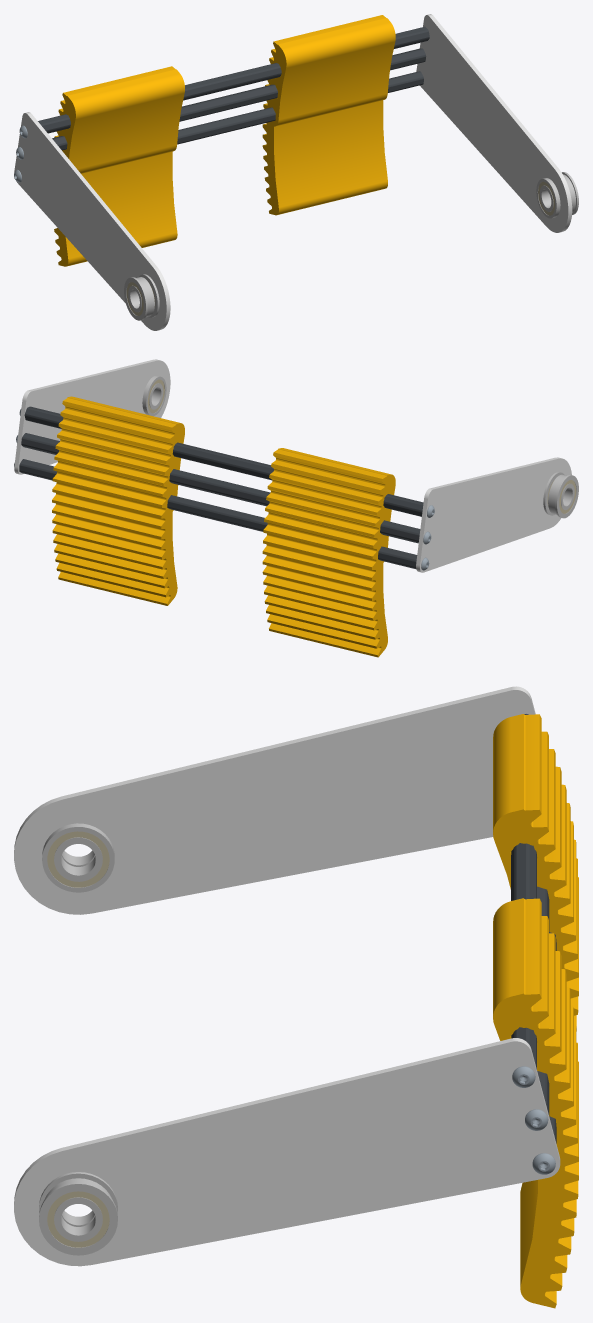
The picture shows the model from 3 angles, top to bottom: view 1: azimuth 30°, elevation 25°; view 2: azimuth 150°, elevation 25°; view 3: azimuth 270°, elevation 25°; orthographic projection. The views are drawn at different scales.
Parts seen in each view (by area): view 1: 03-CFN-HoodRack (×2), 03-ALU-FlyPlateOUT (×2), 3/8" ThunderHex (12.75 in) (×3), 1/2" Rounded Hex (13.75mm) ID Bearing (1.125" OD, 0.313" WD, (×2); view 2: 03-CFN-HoodRack (×2), 03-ALU-FlyPlateOUT (×2), 3/8" ThunderHex (12.75 in) (×3), 1/2" Rounded Hex (13.75mm) ID Bearing (1.125" OD, 0.313" WD, (×2); view 3: 03-ALU-FlyPlateOUT (×2), 03-CFN-HoodRack (×2), 1/2" Rounded Hex (13.75mm) ID Bearing (1.125" OD, 0.313" WD, (×3), 3/8" ThunderHex (12.75 in).
Boxes of the visible parts, box(x1,y1,x2,y2) form: 03-CFN-HoodRack (×2): box(54, 15, 395, 266); 03-ALU-FlyPlateOUT (×2): box(14, 14, 572, 330); 3/8" ThunderHex (12.75 in) (×3): box(38, 26, 429, 150); 1/2" Rounded Hex (13.75mm) ID Bearing (1.125" OD, 0.313" WD, (×2): box(124, 178, 560, 320); 03-CFN-HoodRack (×2): box(52, 396, 395, 657); 03-ALU-FlyPlateOUT (×2): box(14, 359, 571, 572); 3/8" ThunderHex (12.75 in) (×3): box(19, 406, 423, 568); 1/2" Rounded Hex (13.75mm) ID Bearing (1.125" OD, 0.313" WD, (×2): box(142, 375, 578, 518); 03-ALU-FlyPlateOUT (×2): box(14, 686, 560, 1266); 03-CFN-HoodRack (×2): box(493, 714, 578, 1308); 1/2" Rounded Hex (13.75mm) ID Bearing (1.125" OD, 0.313" WD, (×3): box(39, 823, 117, 1255); 3/8" ThunderHex (12.75 in): box(511, 714, 536, 1069).
Bounding box in the file's own units: 0.3524 × 0.1366 × 0.2222.
